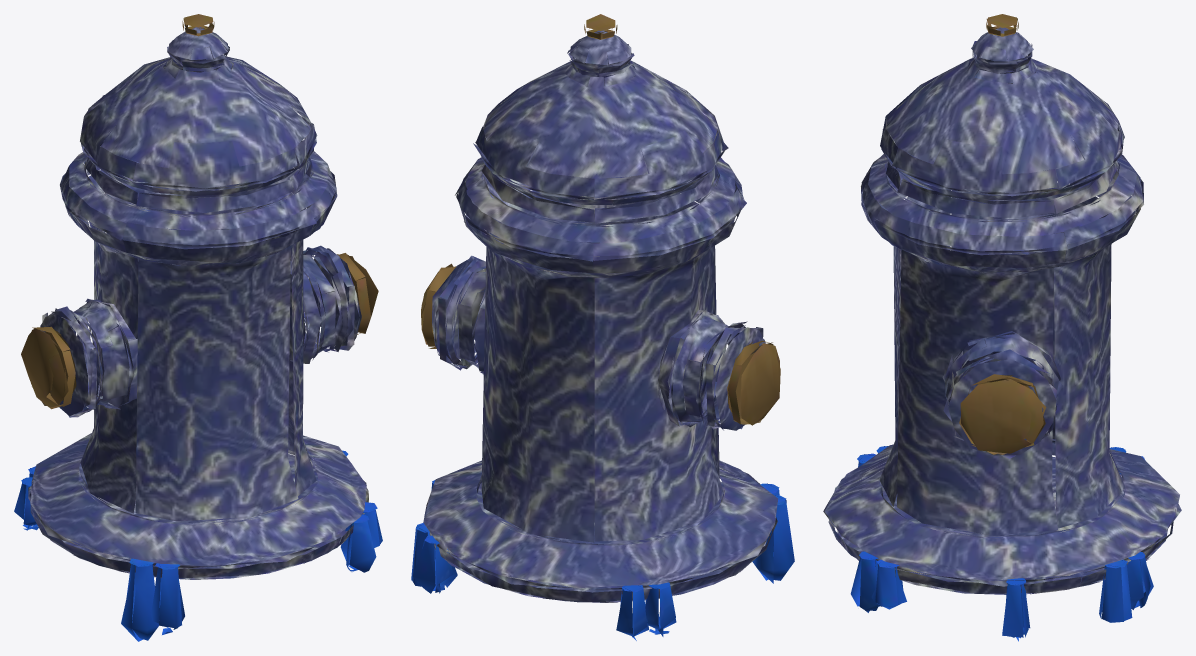
The model's file is hydrant.glb.
3 renders of one model, left to right at view 1: azimuth 30°, elevation 25°; view 2: azimuth 150°, elevation 25°; view 3: azimuth 270°, elevation 25°, orthographic. The views are drawn at different scales.
Visible parts, largest first — view 1: hydrant; view 2: hydrant; view 3: hydrant.
Part boxes in pixels (x1,y1,x2,y2): hydrant: (14,14,382,641); hydrant: (411,14,794,640); hydrant: (823,14,1181,641).
Bounding box in the file's own units: 0.5458 × 0.8937 × 0.5112.
1 material, 1 textured.
